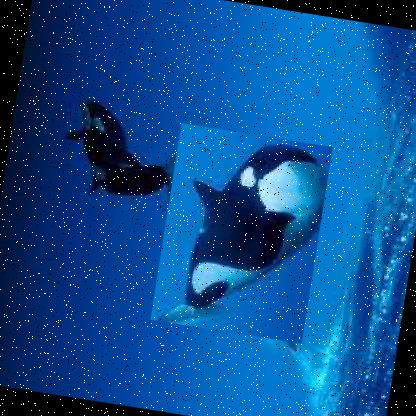killer_whale: (148, 121, 331, 343)
